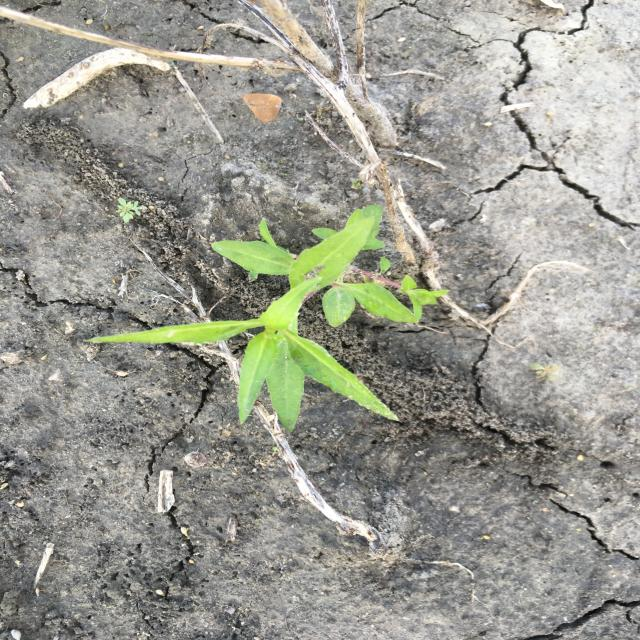Eclipta: (80, 204, 452, 436)
